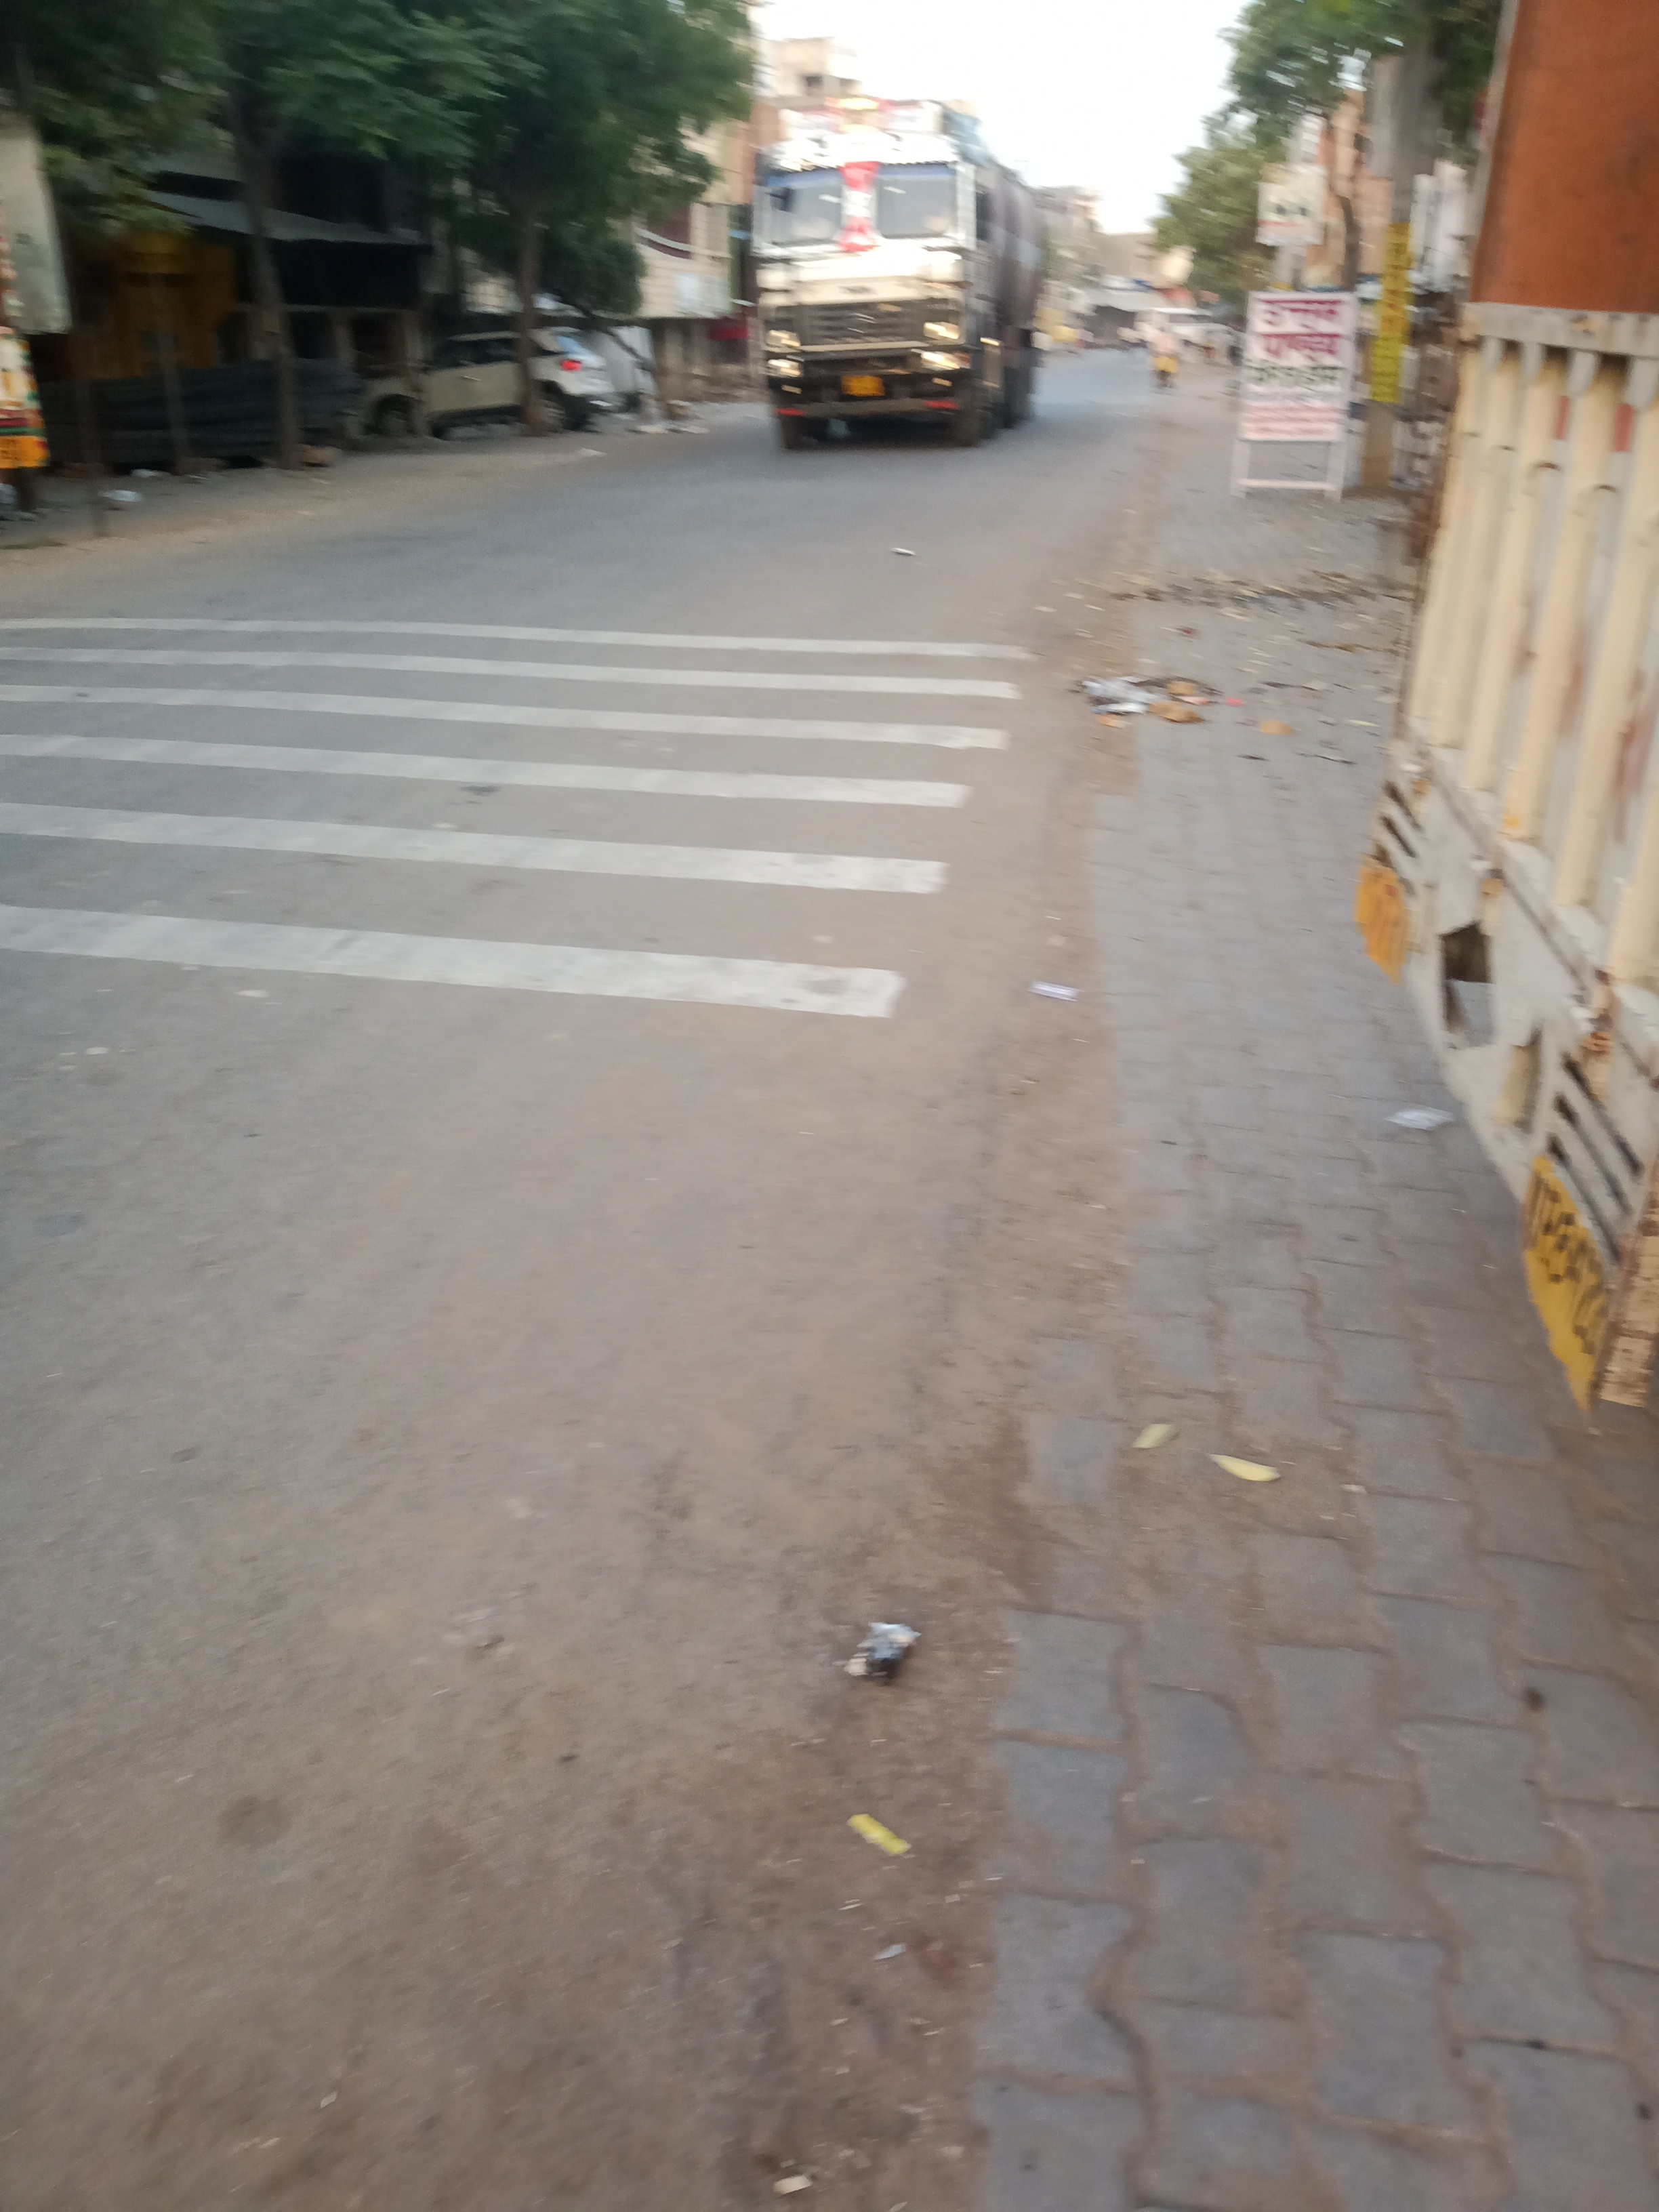truck: (748, 92, 1047, 451)
